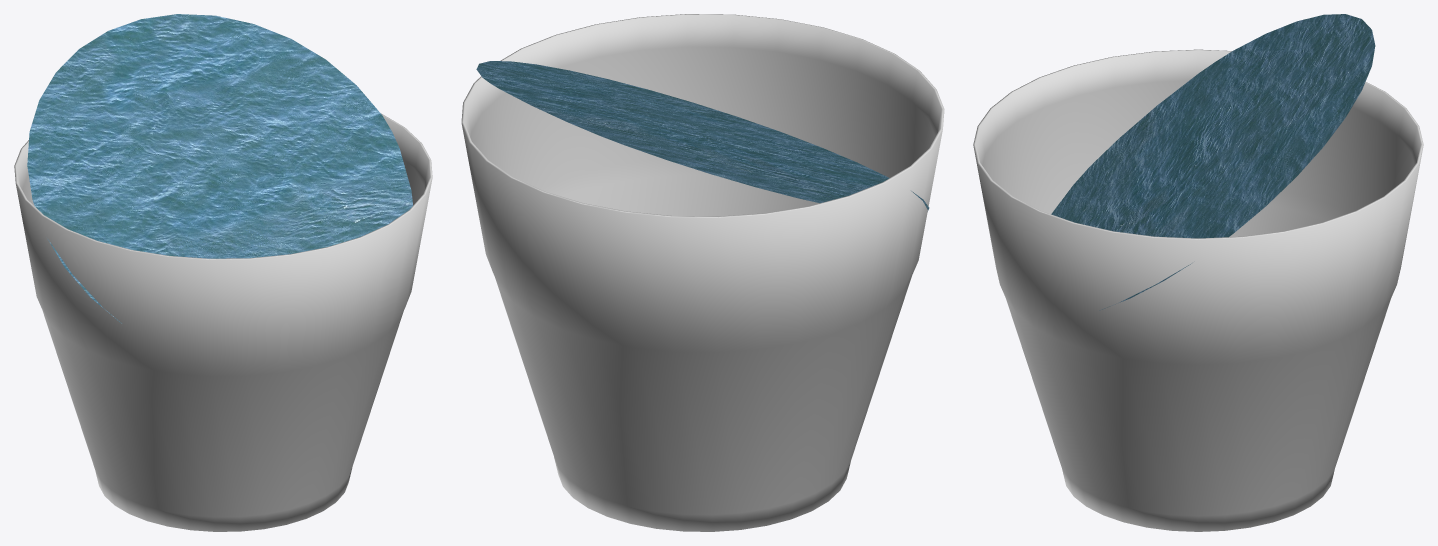
The model's file is bucket_no_bucketHandle_water.fbx.
3 views of the same model, side by side, from view 1: azimuth 30°, elevation 25°; view 2: azimuth 150°, elevation 25°; view 3: azimuth 270°, elevation 25° (orthographic). The views are drawn at different scales.
Parts seen in each view (by area): view 1: Circle, Cylinder; view 2: Circle, Cylinder; view 3: Circle, Cylinder.
Boxes of the visible parts, bbox=[...] form: Circle: bbox=[14, 113, 432, 531]; Cylinder: bbox=[27, 14, 412, 323]; Circle: bbox=[461, 14, 944, 531]; Cylinder: bbox=[476, 61, 929, 211]; Circle: bbox=[973, 49, 1423, 531]; Cylinder: bbox=[1051, 14, 1375, 310].
Bounding box in the file's own units: 356 × 375 × 356.
